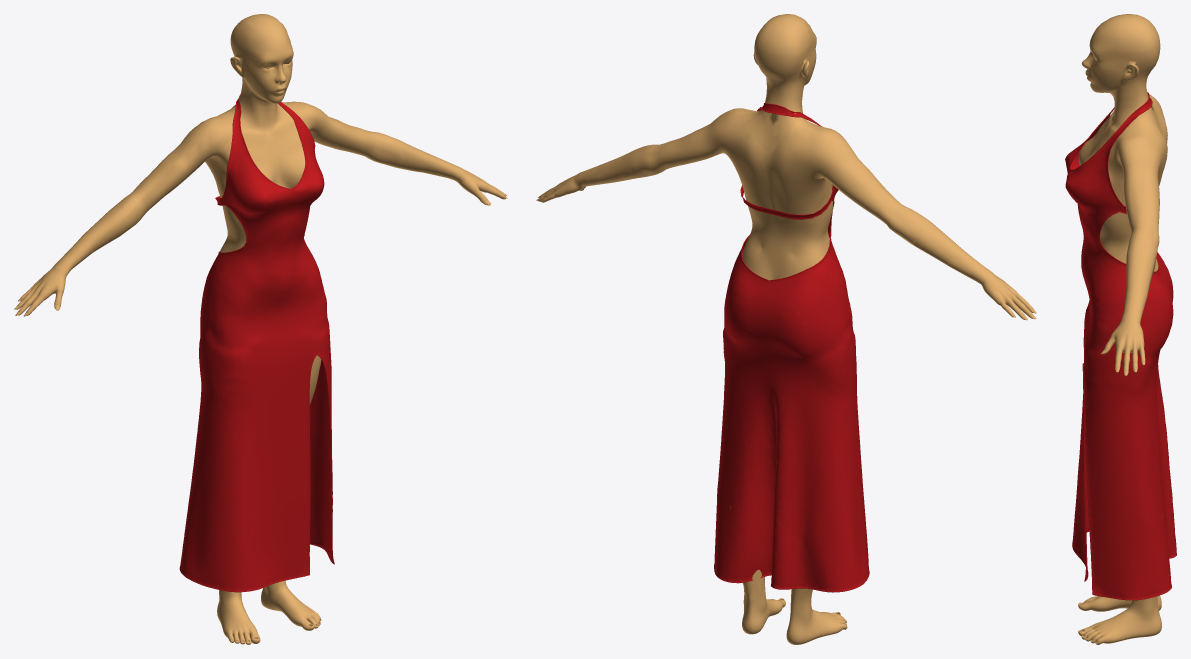
Rendered from dress3.glb.
3 views of the same model, side by side, from view 1: azimuth 30°, elevation 25°; view 2: azimuth 150°, elevation 25°; view 3: azimuth 270°, elevation 25° (orthographic).
Visible parts, largest first — view 1: EveningDress, Body; view 2: EveningDress, Body; view 3: EveningDress, Body.
Boxes of the visible parts, x1,y1,x2,y2 form: EveningDress: (179, 94, 334, 592); Body: (16, 14, 506, 644); EveningDress: (714, 103, 869, 592); Body: (538, 14, 1033, 644); EveningDress: (1065, 92, 1176, 600); Body: (1078, 14, 1167, 644).
Bounding box in the file's own units: 1.58 × 1.85 × 0.3089.
